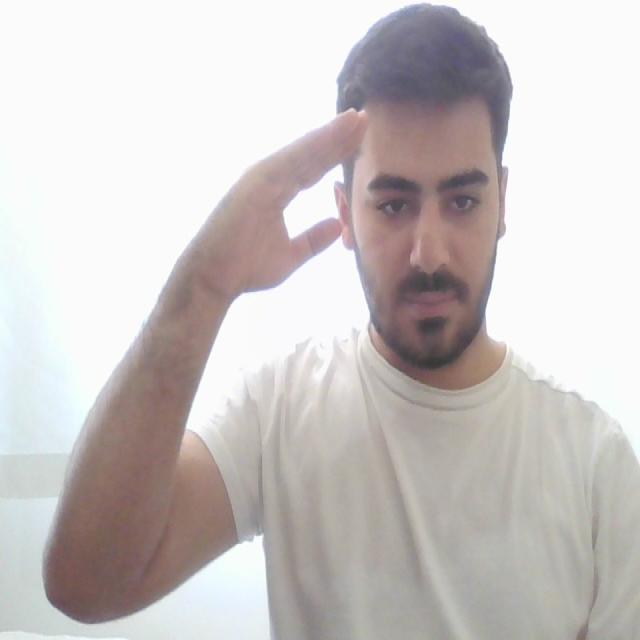Merhaba: (198, 84, 404, 348)
